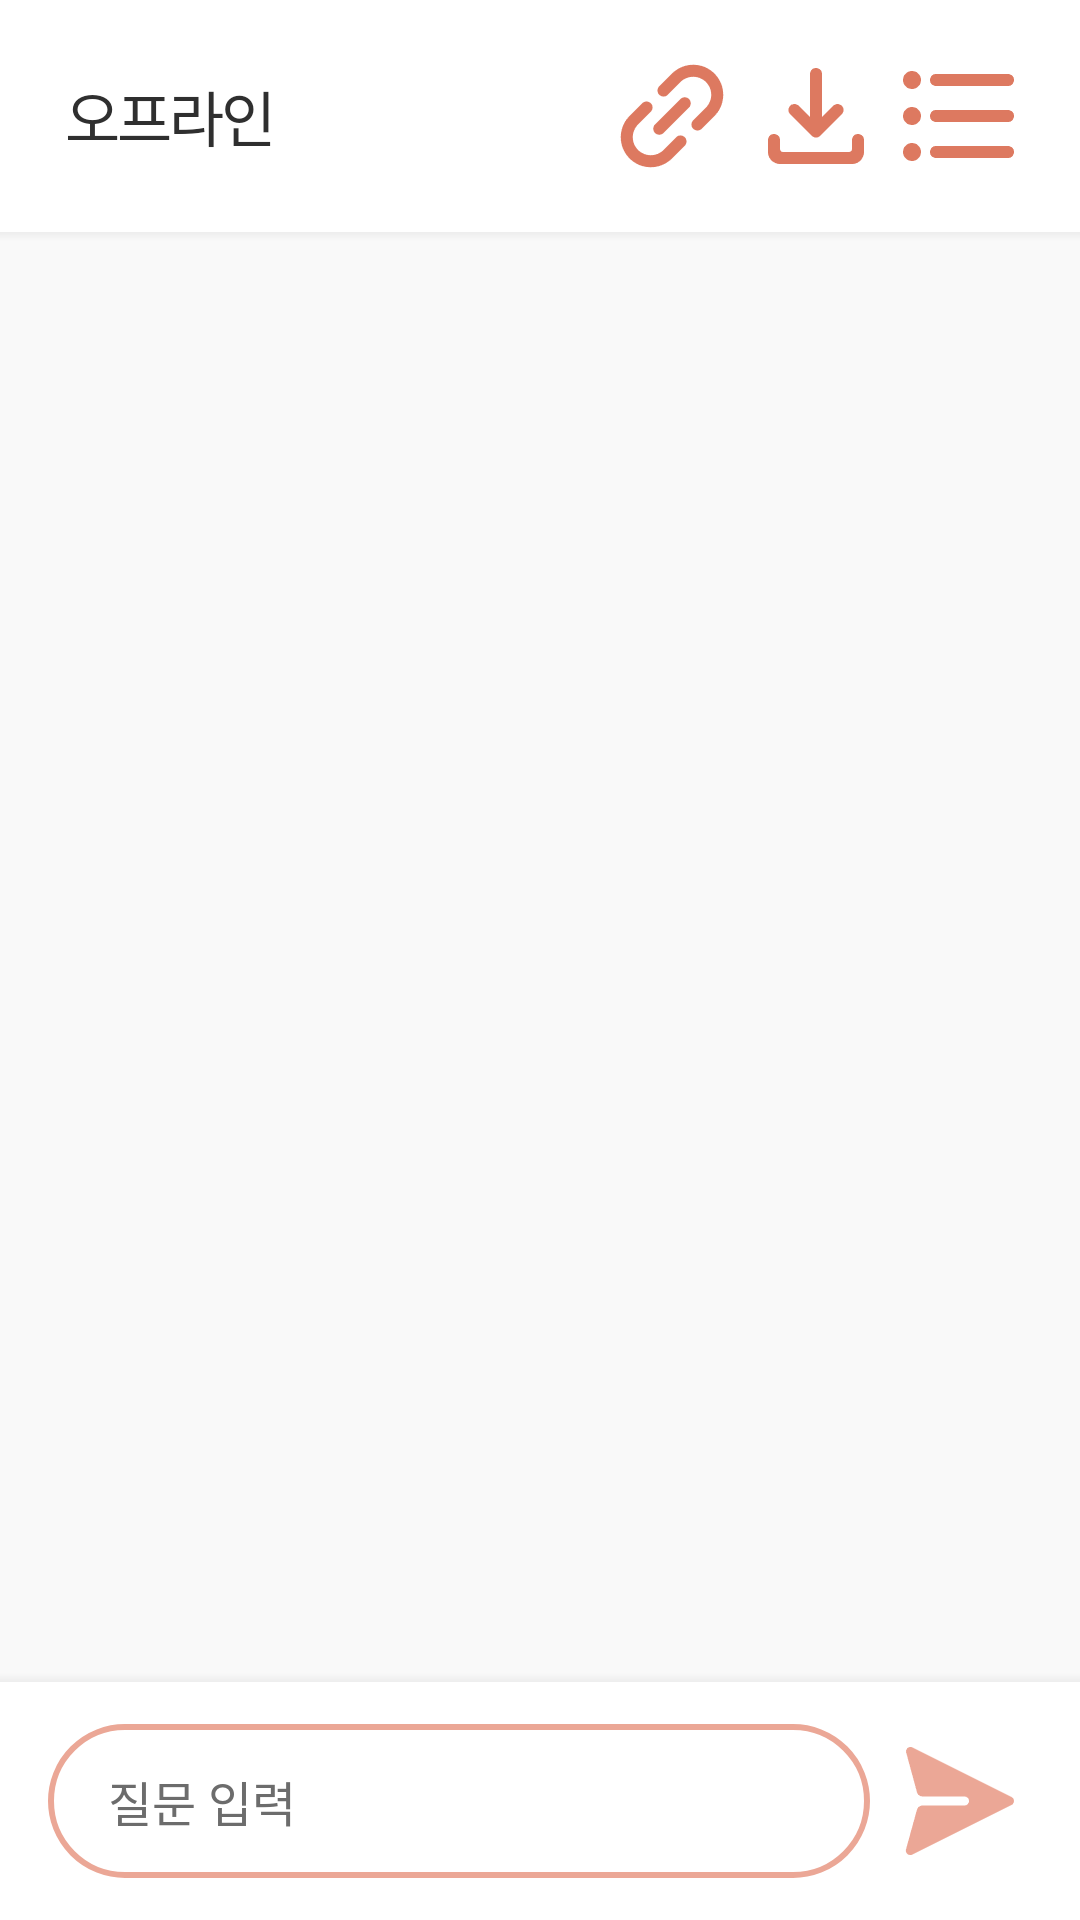

Where to tap for icons on this 1080×1920 app screen, as (x,y):
강연(회의) 저장: (816,116)
저장한 강연(회의) 리스트: (958,116)
질문전송: (960,1801)
